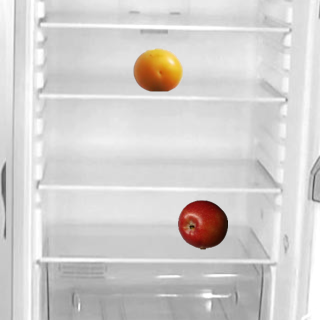Apple Braeburn: (177, 199, 227, 249)
Cherry Wax Yellow: (132, 44, 182, 94)
